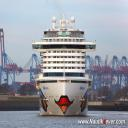cruises: (28, 11, 98, 119)
